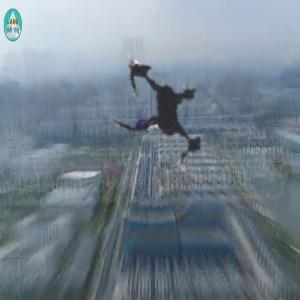drone: (57, 3, 276, 222)
